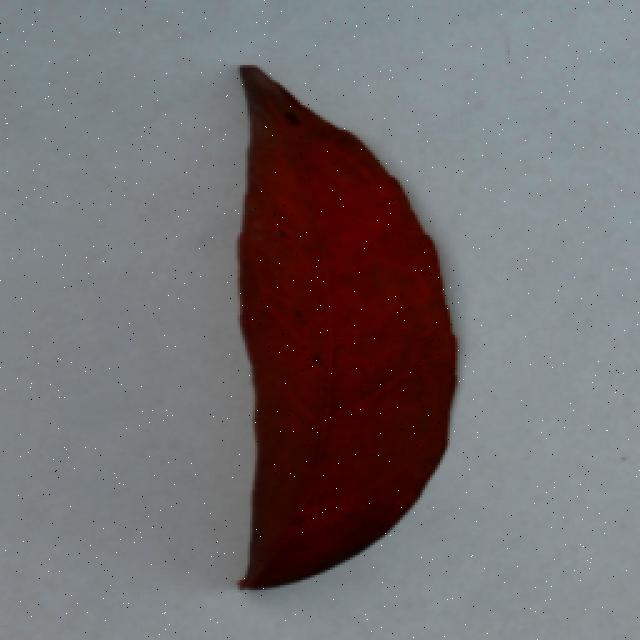greening: (192, 58, 463, 609)
